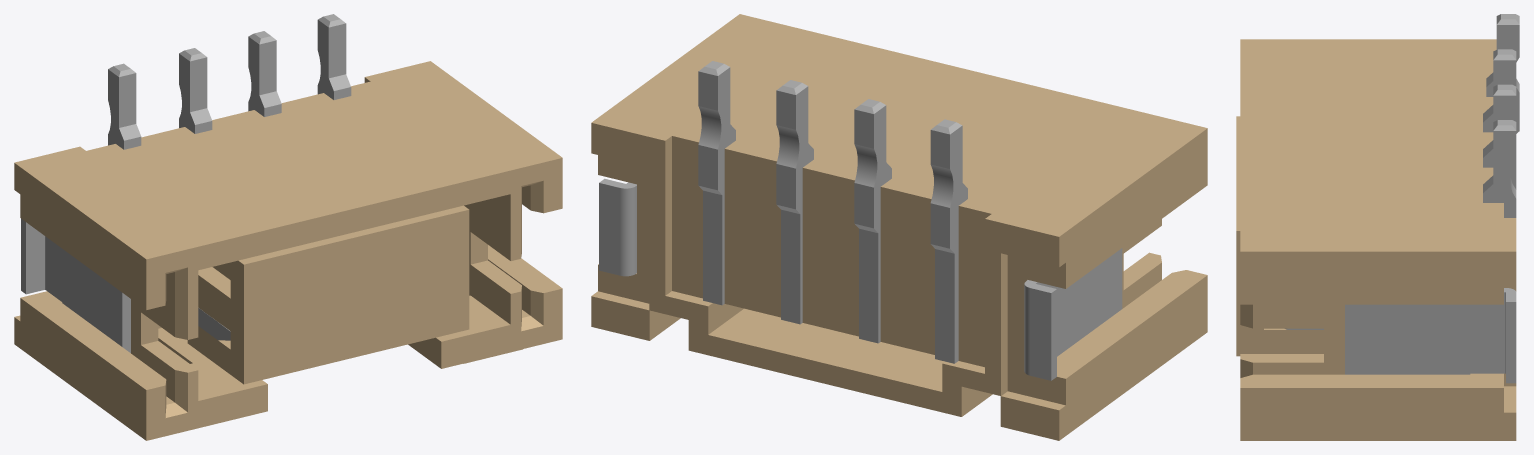
File: PH2.0-4PLB---WURTH_620304124022-28ea3436b404.glb
3 views of the same model, side by side, from view 1: azimuth 30°, elevation 25°; view 2: azimuth 150°, elevation 25°; view 3: azimuth 270°, elevation 25° (orthographic). The views are drawn at different scales.
Visible parts, largest first — view 1: material0, material1; view 2: material0, material1; view 3: material0, material1.
Boxes of the visible parts, x1,y1,x2,y2 form: material0: (14,61,562,440); material1: (21,14,351,352); material0: (591,14,1207,440); material1: (599,61,1122,380); material0: (1236,39,1516,440); material1: (1285,14,1519,383).
Bounding box in the file's own units: 12 × 7.01 × 6.78.
